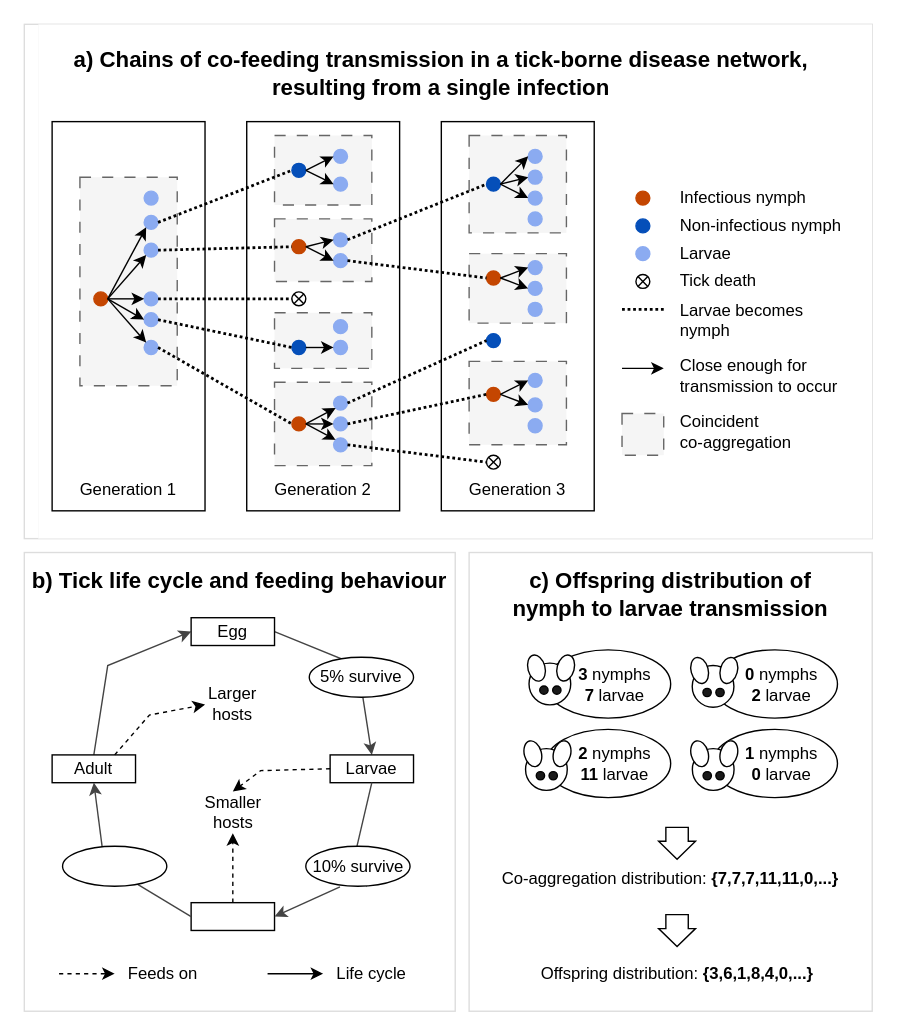
The diagram is 897 pixels wide and 1036 high, and some of its shapes have lost their labels. Each missing label, with the centre of its shape:
"20% survive" goes at point 114,865.
"Nymph" goes at point 232,915.
